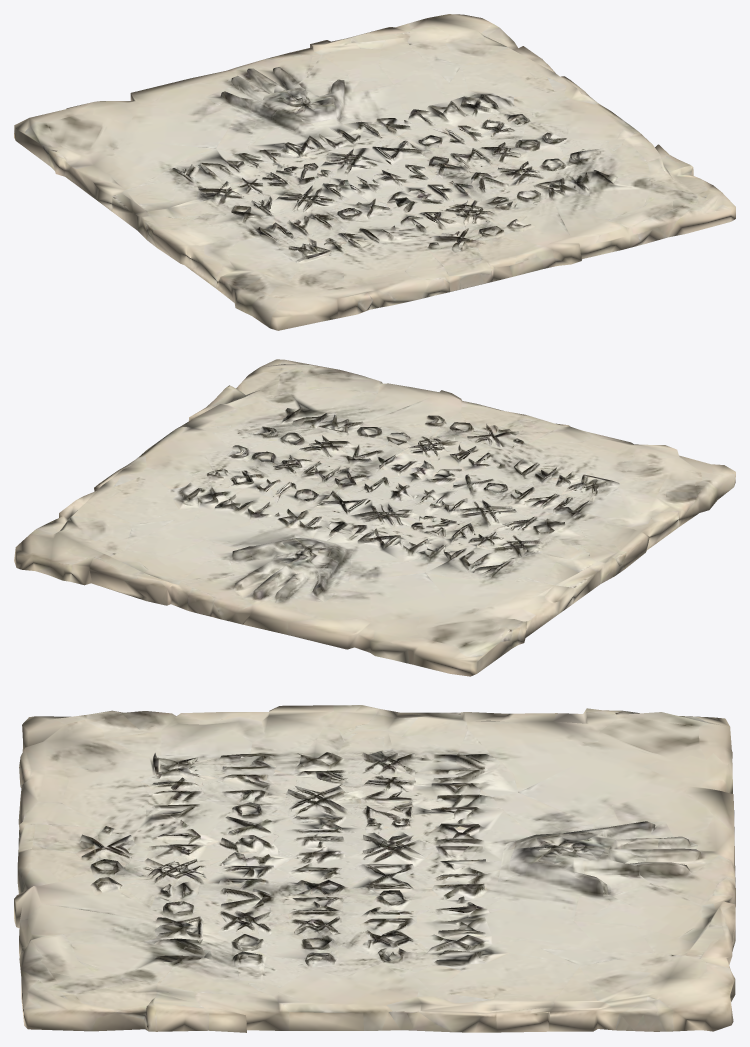
File: oath_rubbing.94d28d82.glb
3 views of the same model, one above another, from view 1: azimuth 30°, elevation 25°; view 2: azimuth 150°, elevation 25°; view 3: azimuth 270°, elevation 25° (orthographic). The views are drawn at different scales.
Parts seen in each view (by area): view 1: item; view 2: item; view 3: item.
Boxes of the visible parts, left/top/right/bottom form: item: left=14, top=14, right=735, bottom=330; item: left=14, top=359, right=735, bottom=676; item: left=14, top=705, right=735, bottom=1032.
Bounding box in the file's own units: 0.3989 × 0.0207 × 0.3997.
Materials: 1 (1 with a texture image).
